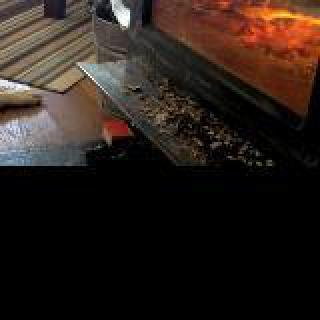fire: (188, 0, 318, 44)
